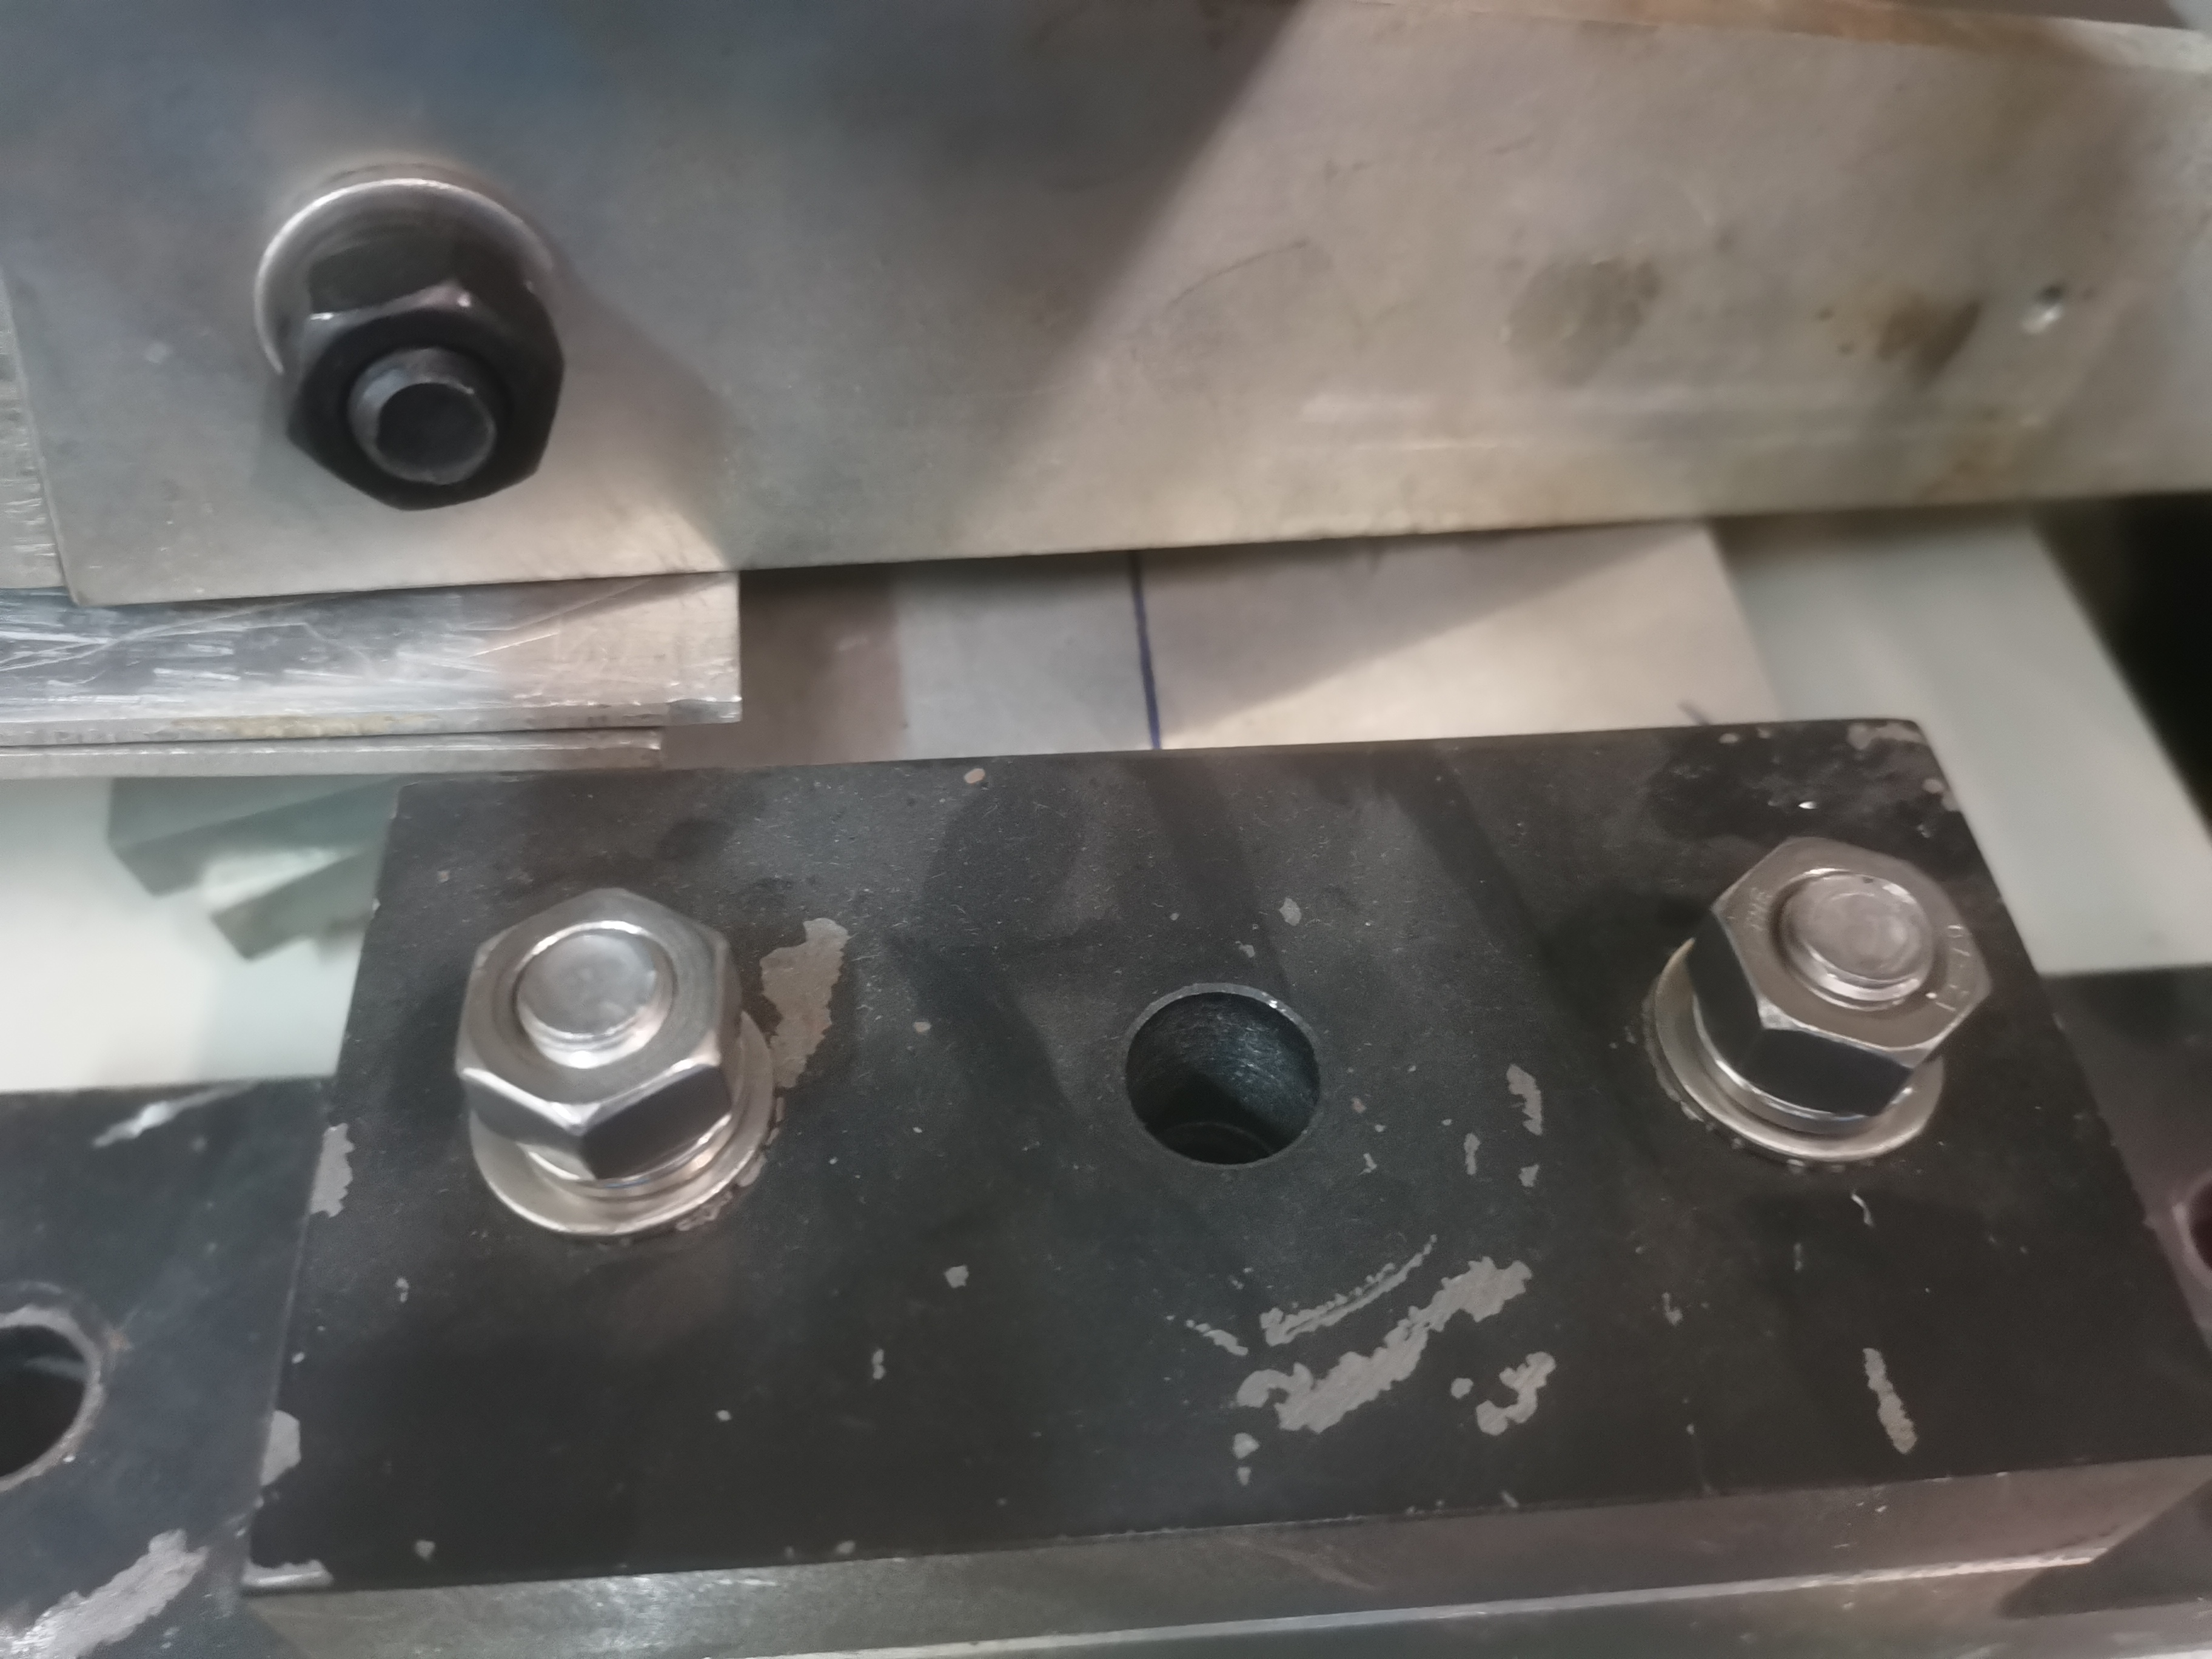bolt_b: (1679, 829, 1998, 1122), (449, 885, 747, 1182), (268, 225, 568, 518)
